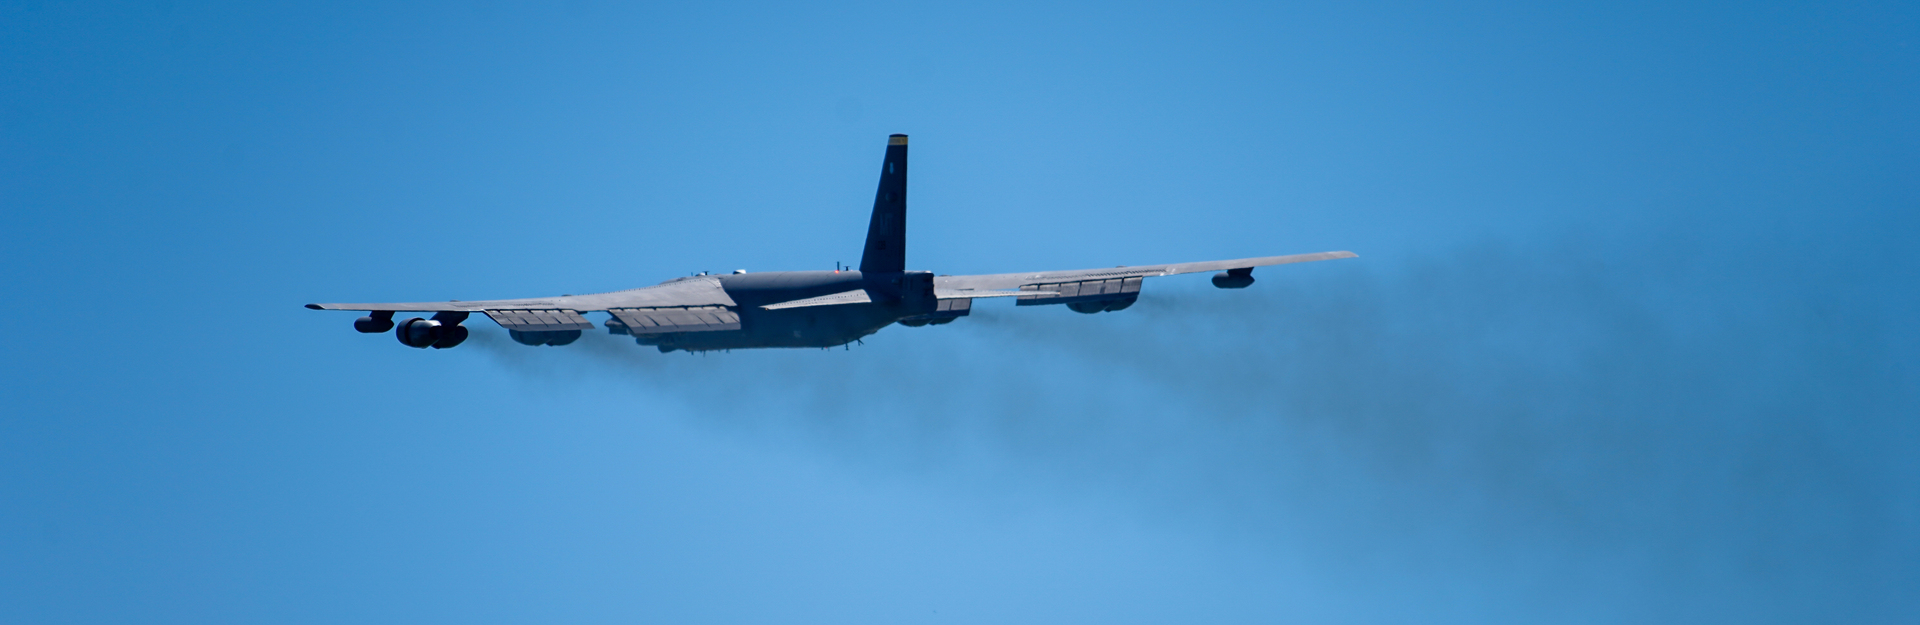B52: (302, 132, 1360, 358)
